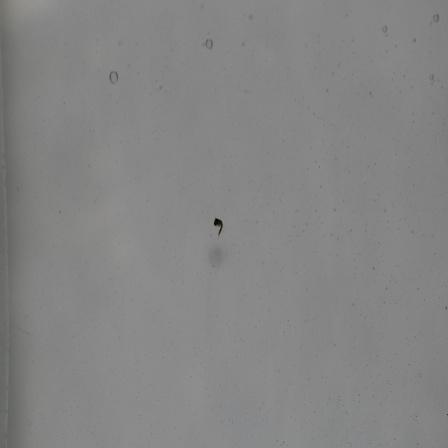Jentik-Nyamuk: (211, 215, 227, 239)
